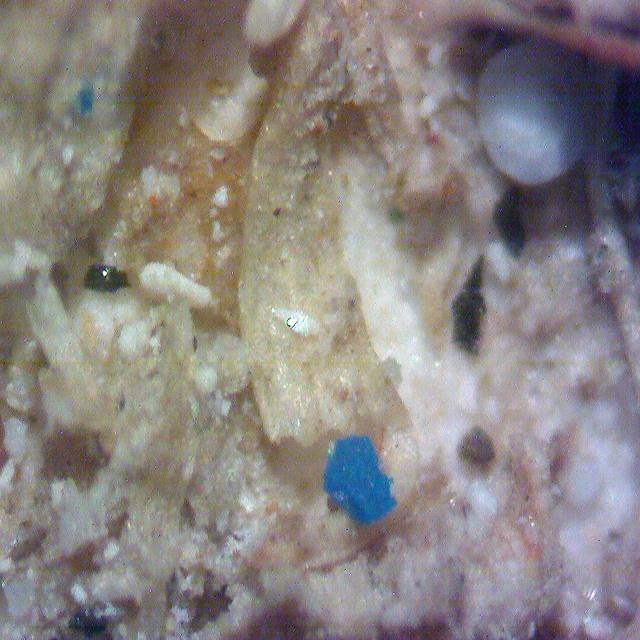microplastic: (322, 435, 396, 528)
